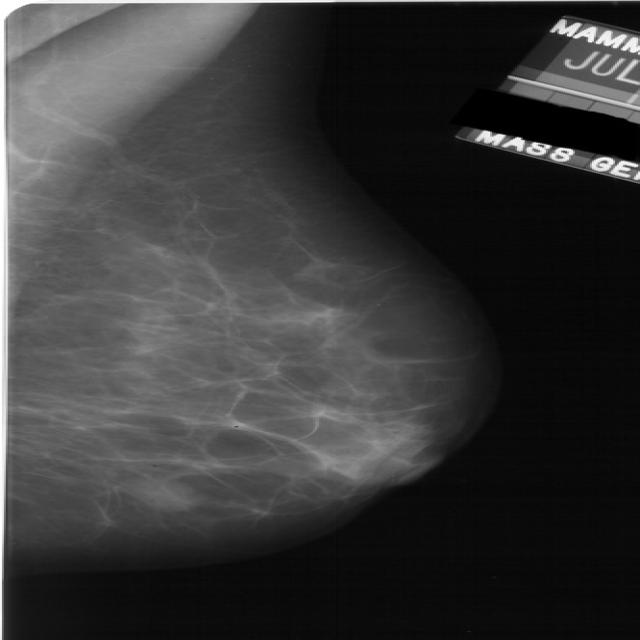tumour: (115, 478, 202, 512)
